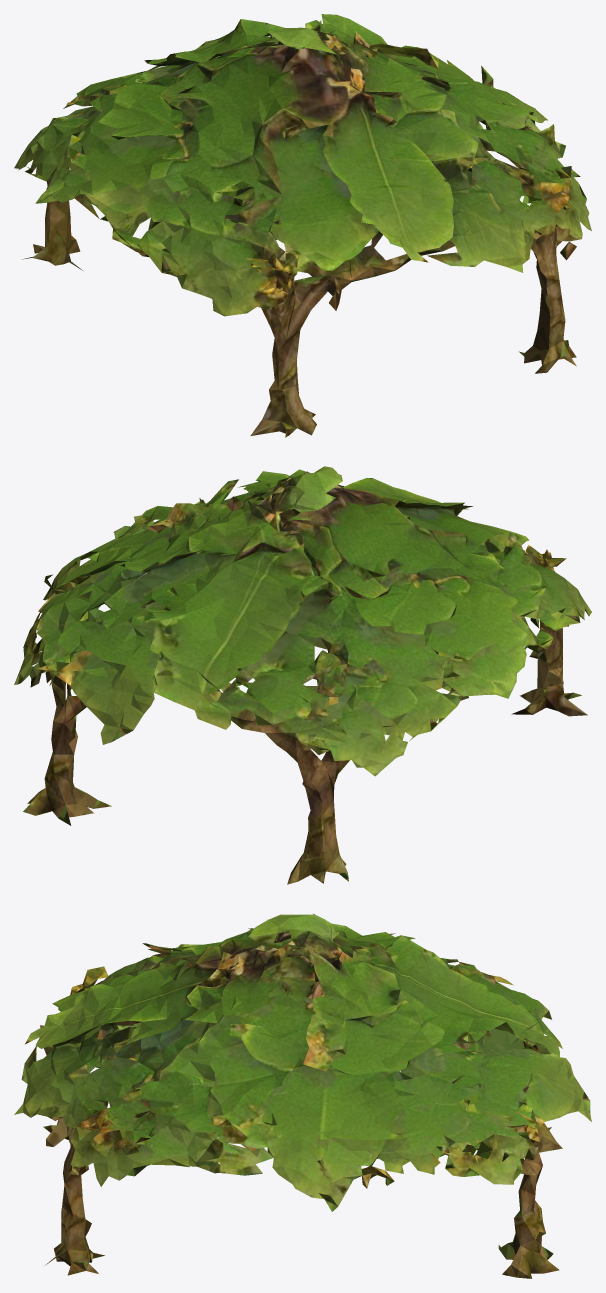
Rendered from fairy_leaf_canopy_1117.glb.
3 renders of one model, top to bottom at view 1: azimuth 30°, elevation 25°; view 2: azimuth 150°, elevation 25°; view 3: azimuth 270°, elevation 25°, orthographic.
Visible parts, largest first — view 1: world; view 2: world; view 3: world.
Boxes of the visible parts, x1,y1,x2,y2 form: world: (14, 14, 591, 437); world: (14, 466, 591, 884); world: (14, 913, 591, 1278).
Bounding box in the file's own units: 1.76 × 1 × 1.85.
Materials: 1 (1 with a texture image).
